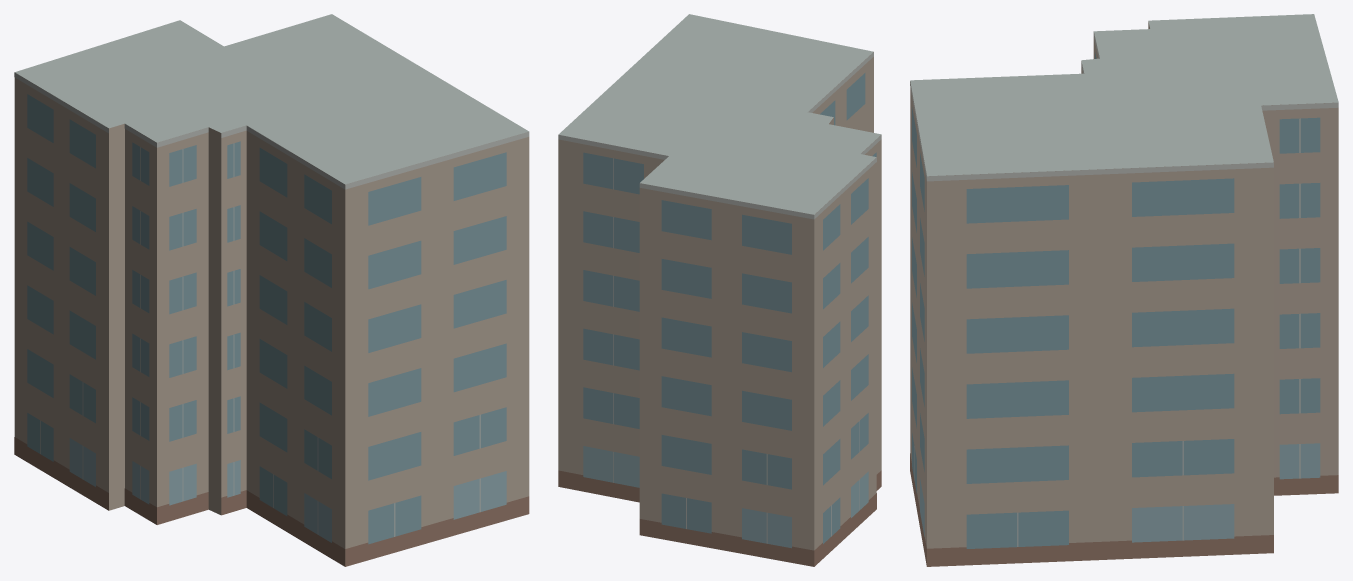
Rendered from survey-upis-32624668.glb.
The picture shows the model from 3 angles, left to right: view 1: azimuth 30°, elevation 25°; view 2: azimuth 150°, elevation 25°; view 3: azimuth 270°, elevation 25°; orthographic projection. The views are drawn at different scales.
Parts seen in each view (by area): view 1: survey-upis-32624668.tmp; view 2: survey-upis-32624668.tmp; view 3: survey-upis-32624668.tmp.
Part boxes in pixels (x1=…): survey-upis-32624668.tmp: x1=14, y1=14, x2=529, y2=566; survey-upis-32624668.tmp: x1=558, y1=14, x2=881, y2=566; survey-upis-32624668.tmp: x1=910, y1=14, x2=1338, y2=566.
Bounding box in the file's own units: 16.3 × 18.3 × 18.21.
